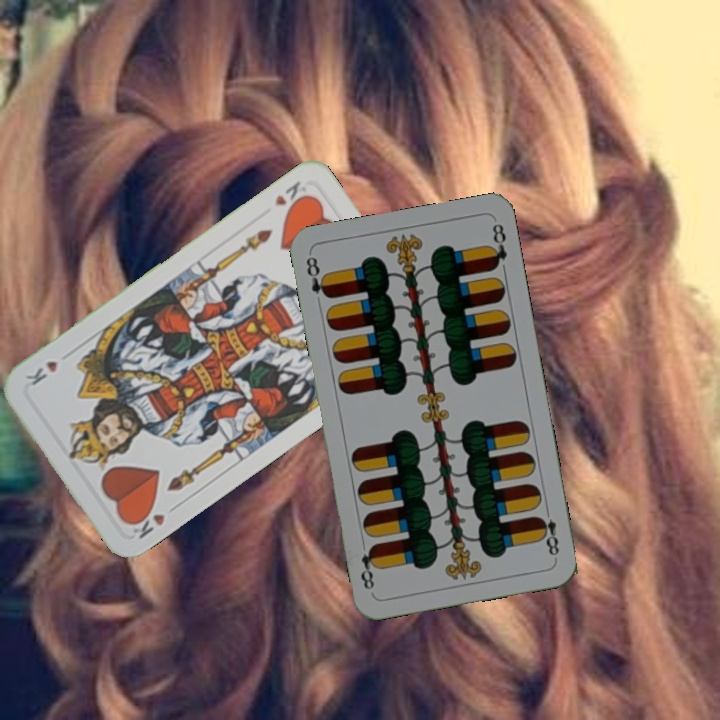E8: (534, 503, 562, 559), (302, 252, 333, 302)
HK: (124, 503, 168, 541), (270, 177, 312, 215)
